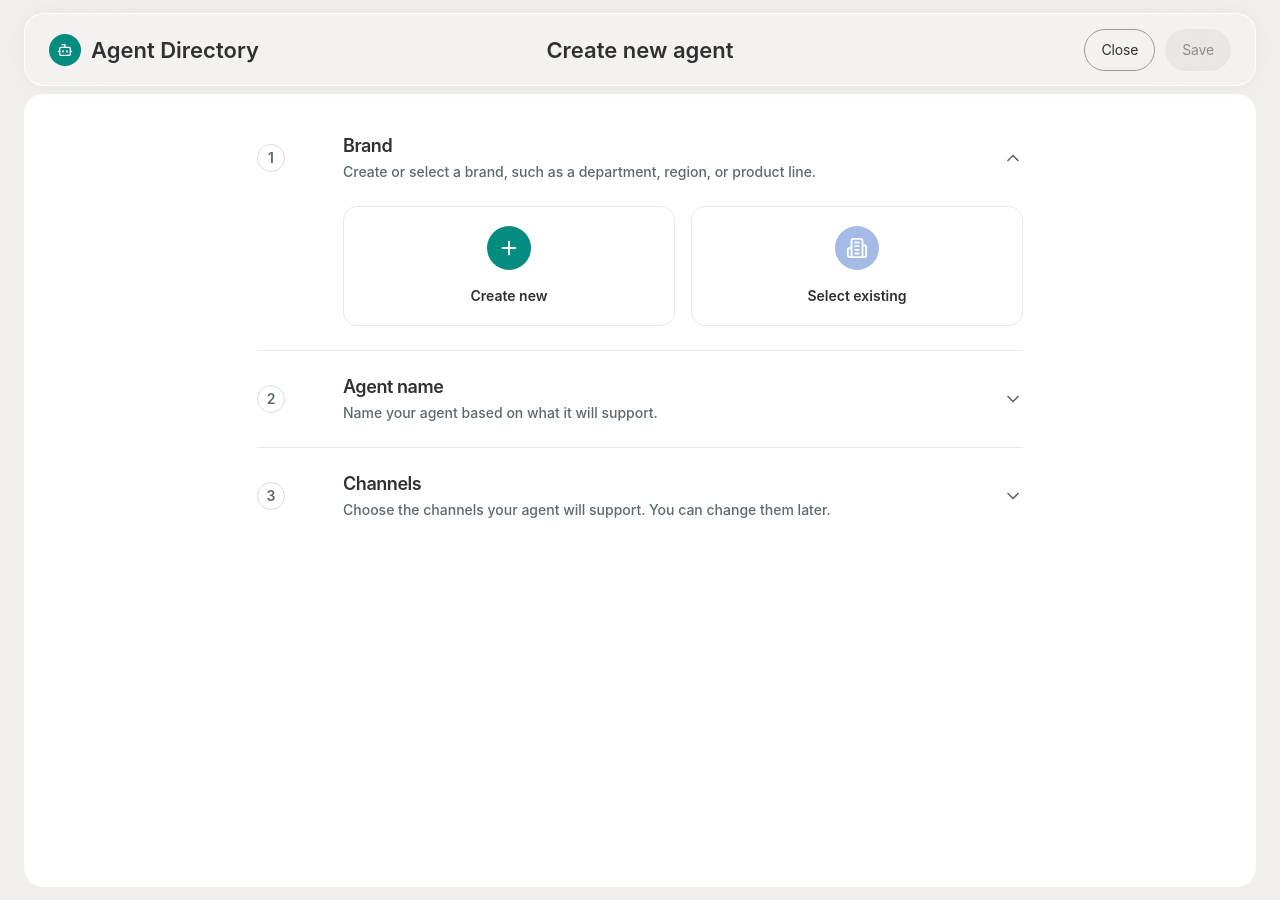
Test: CreateAgentFlow › keeps Save disabled until a brand, a name, and a channel are set
Expected: the button "Save" is disabled, [1165,28,1231,70]
Click the button "Create new" at (509, 266), box [343,206,675,326]
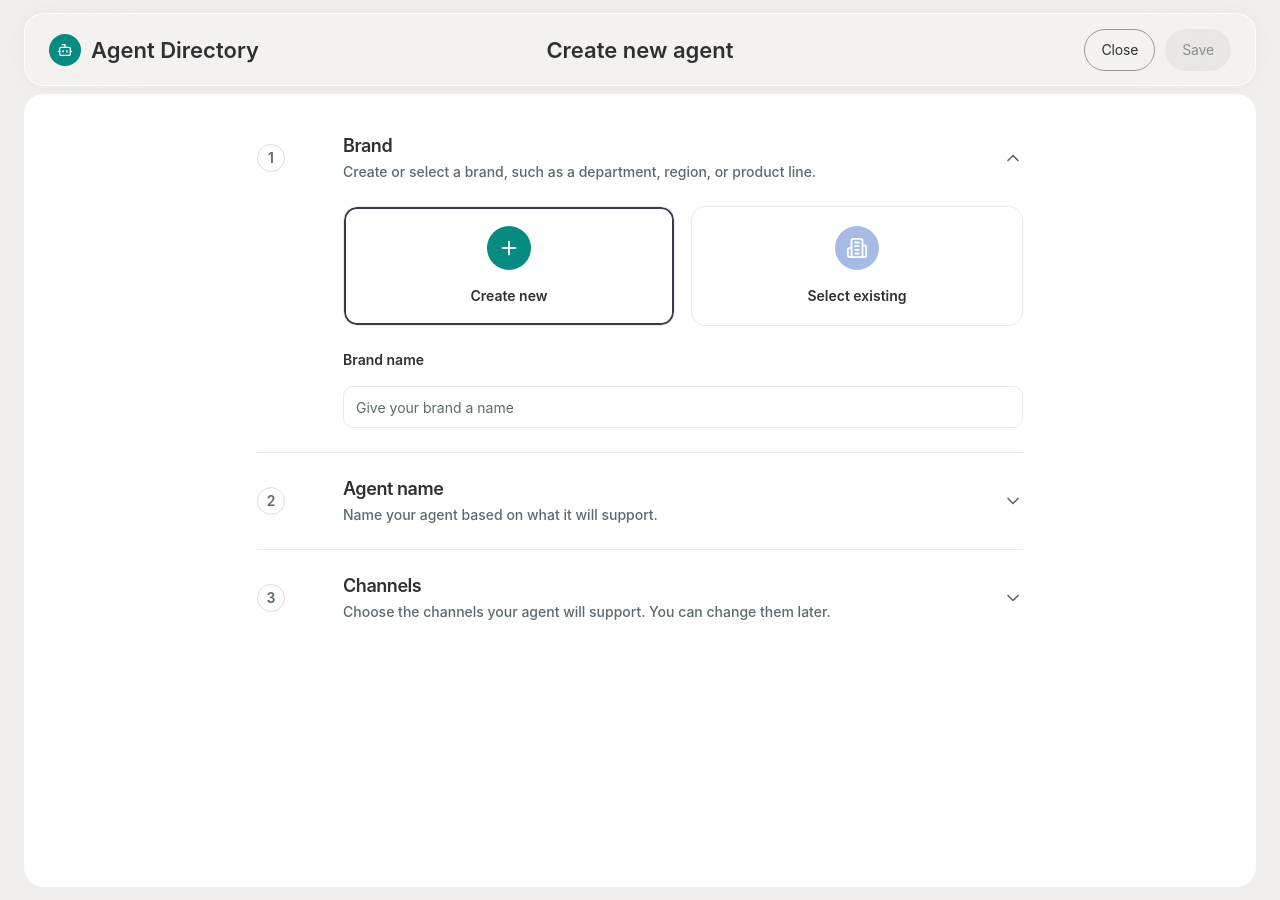
Type "Uber Rentals" into the field labelled "Brand name" at (683, 407), box [343,386,1023,428]
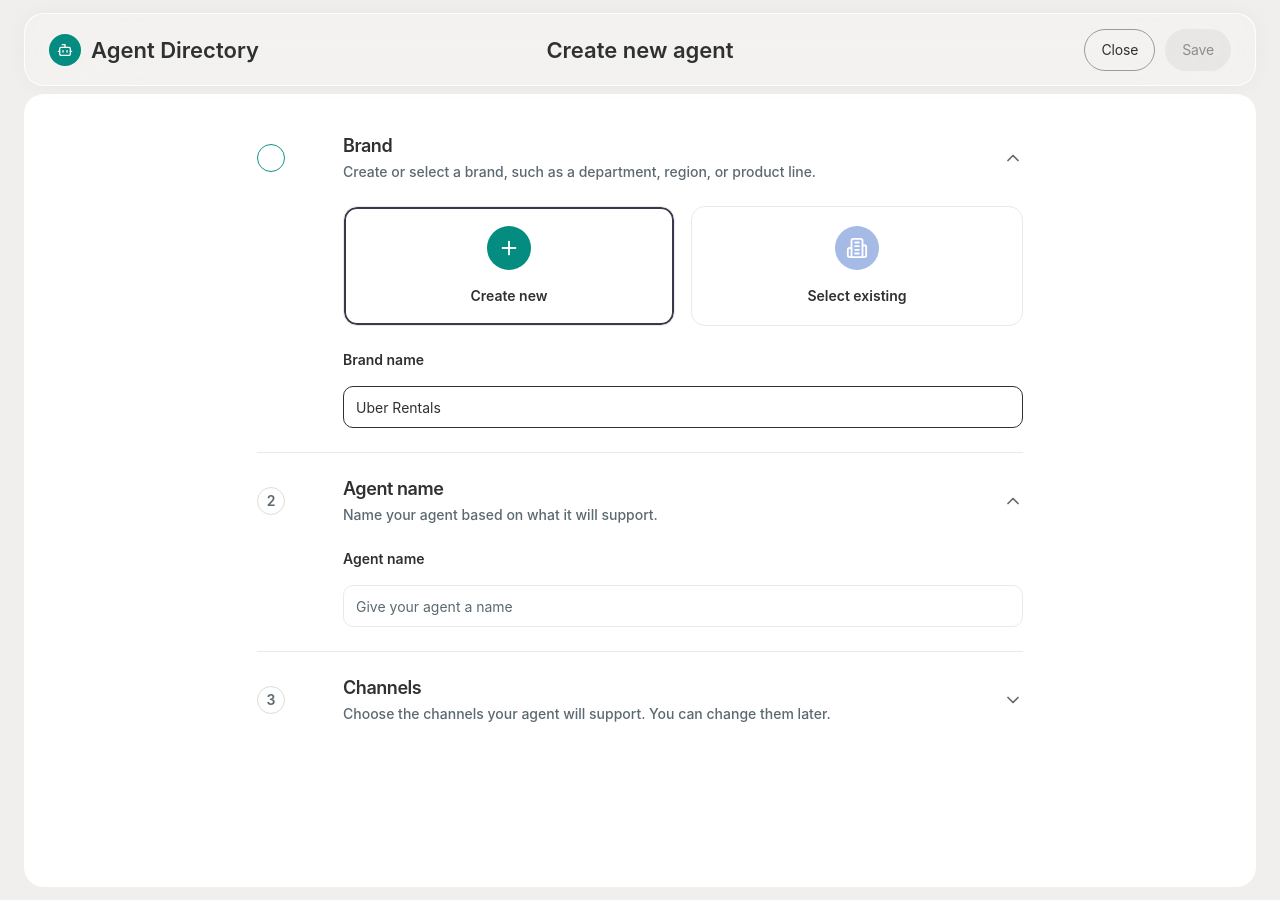
Expected: the button "Save" is disabled, [1165,28,1231,70]
Type "Rental Support" into the field labelled "Agent name" at (683, 606), box [343,585,1023,627]
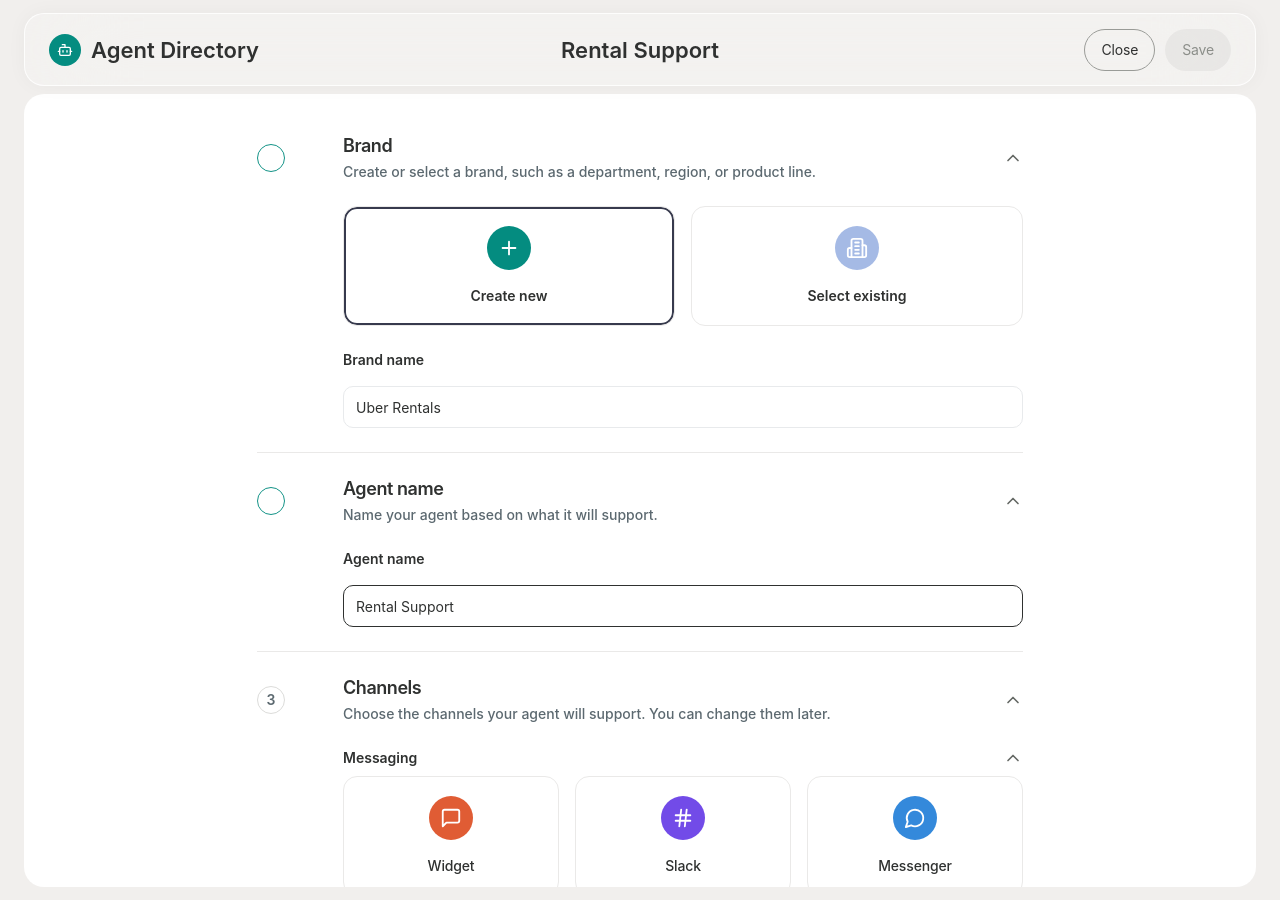
Expected: the button "Save" is disabled, [1165,28,1231,70]
Click the button "Widget" at (451, 836), box [343,776,559,896]
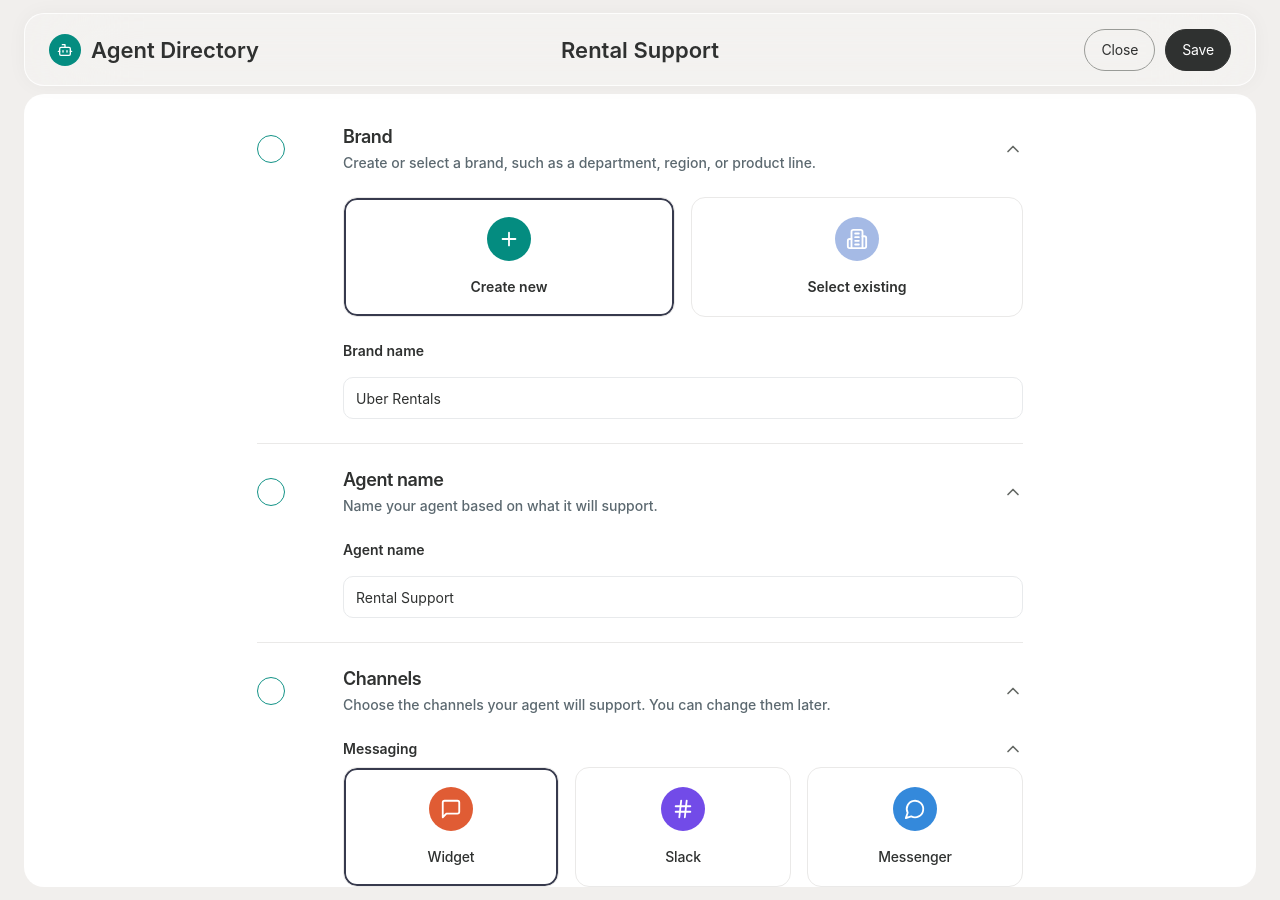
Now the button "Save" is enabled, box [1165,28,1231,70]
